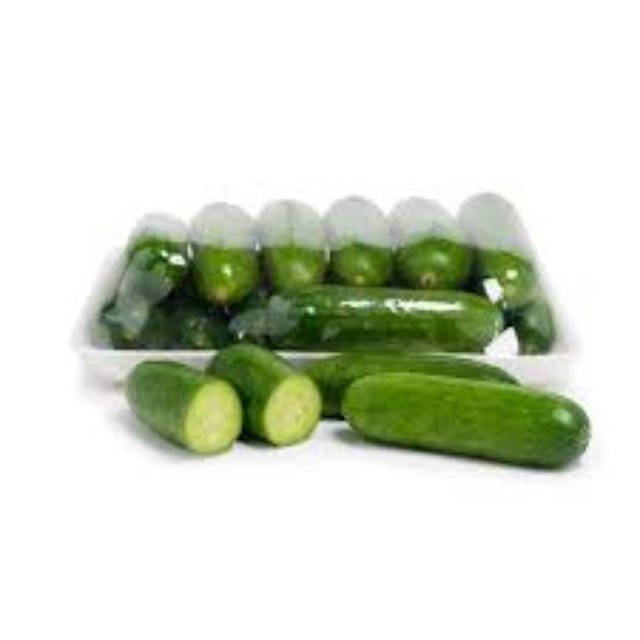dua_leo: (344, 369, 591, 466)
